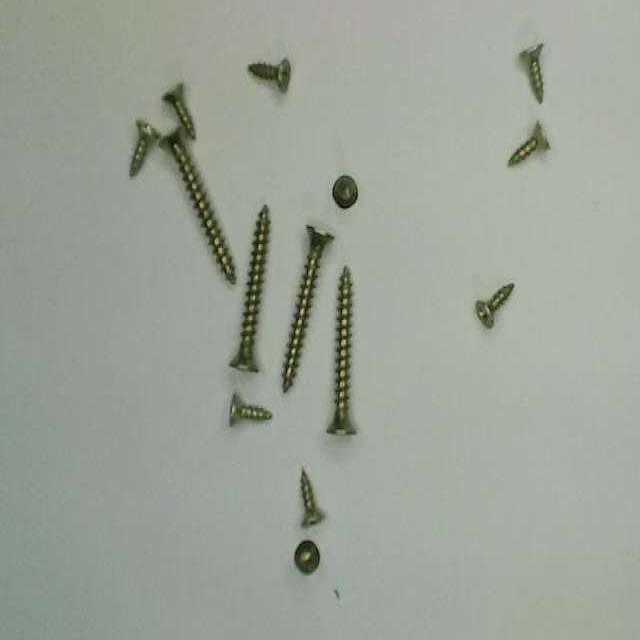Parafuso: (160, 129, 234, 283), (282, 227, 333, 391), (229, 205, 269, 371), (327, 267, 356, 435), (162, 84, 194, 139), (509, 121, 549, 165), (129, 120, 160, 176), (477, 284, 513, 328), (520, 44, 543, 103), (230, 392, 271, 425), (301, 469, 324, 527), (250, 59, 290, 92), (295, 540, 319, 573), (333, 176, 357, 207)
